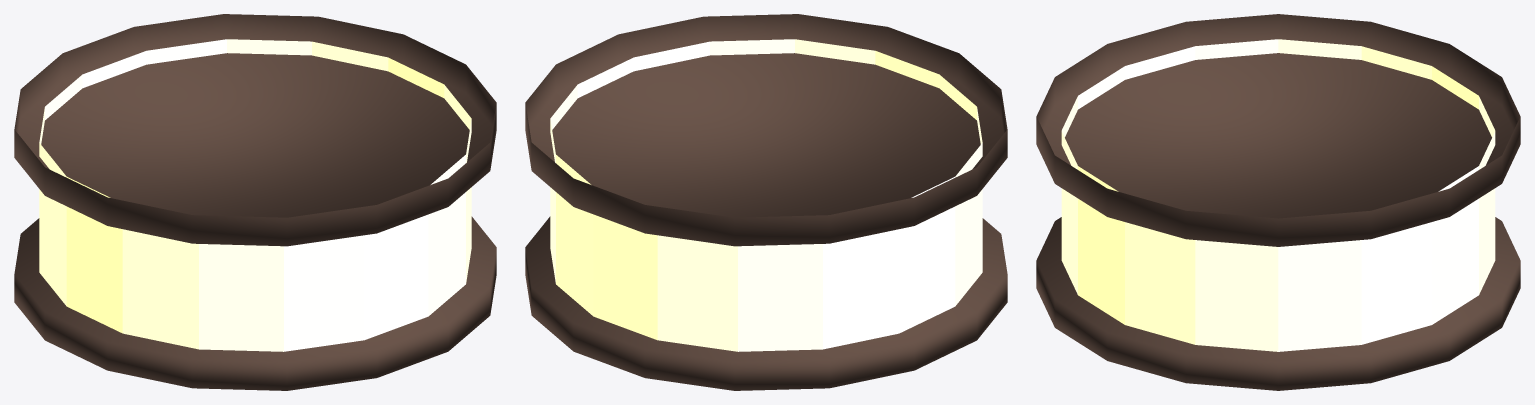
Rendered from ceiling_lamp.glb.
The picture shows the model from 3 angles, left to right: view 1: azimuth 30°, elevation 25°; view 2: azimuth 150°, elevation 25°; view 3: azimuth 270°, elevation 25°; orthographic projection.
Parts seen in each view (by area): view 1: Ceiling Lamp 2; view 2: Ceiling Lamp 2; view 3: Ceiling Lamp 2.
Boxes of the visible parts, <box> form: Ceiling Lamp 2: <box>14,14,496,390</box>; Ceiling Lamp 2: <box>525,14,1007,390</box>; Ceiling Lamp 2: <box>1036,14,1520,390</box>.
Bounding box in the file's own units: 0.3324 × 0.1582 × 0.3324.
2 materials, 1 textured.
